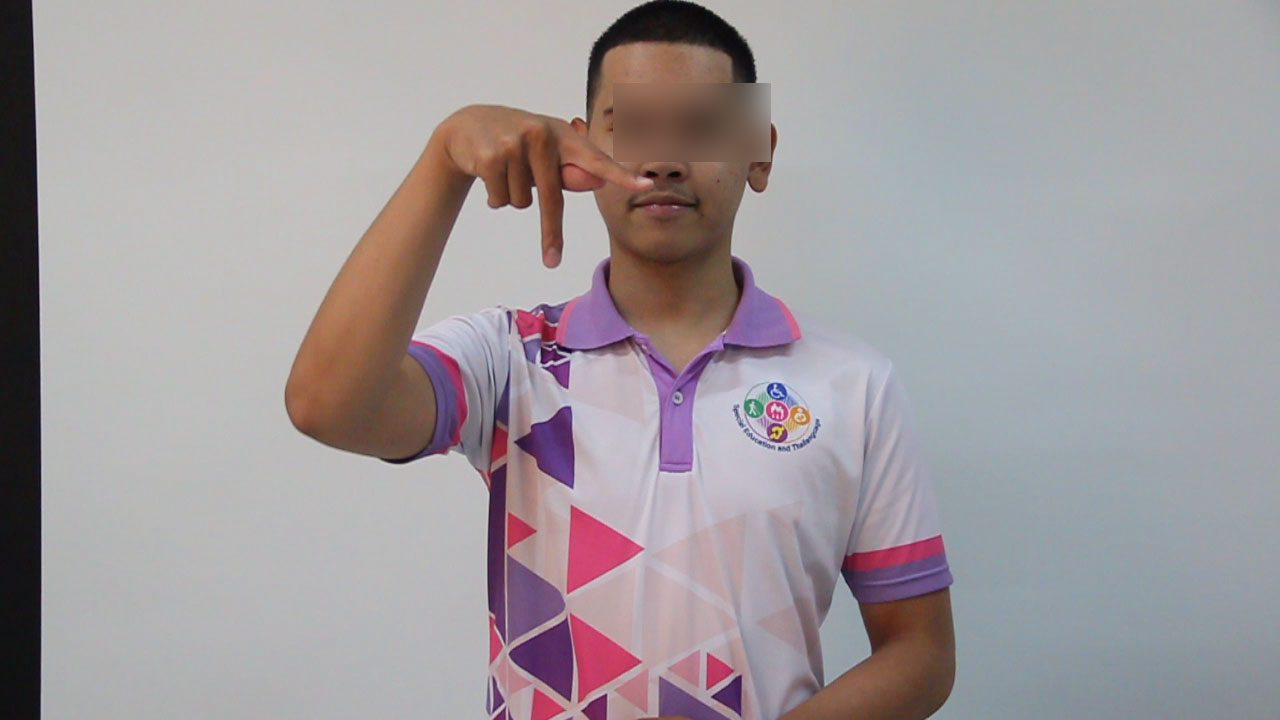por: (435, 82, 660, 273)
